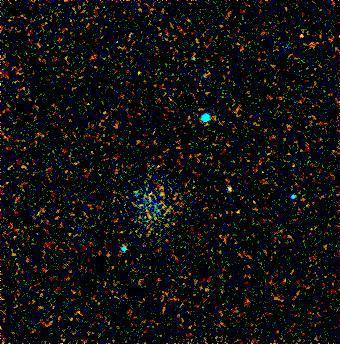star: (125, 62, 155, 92)
